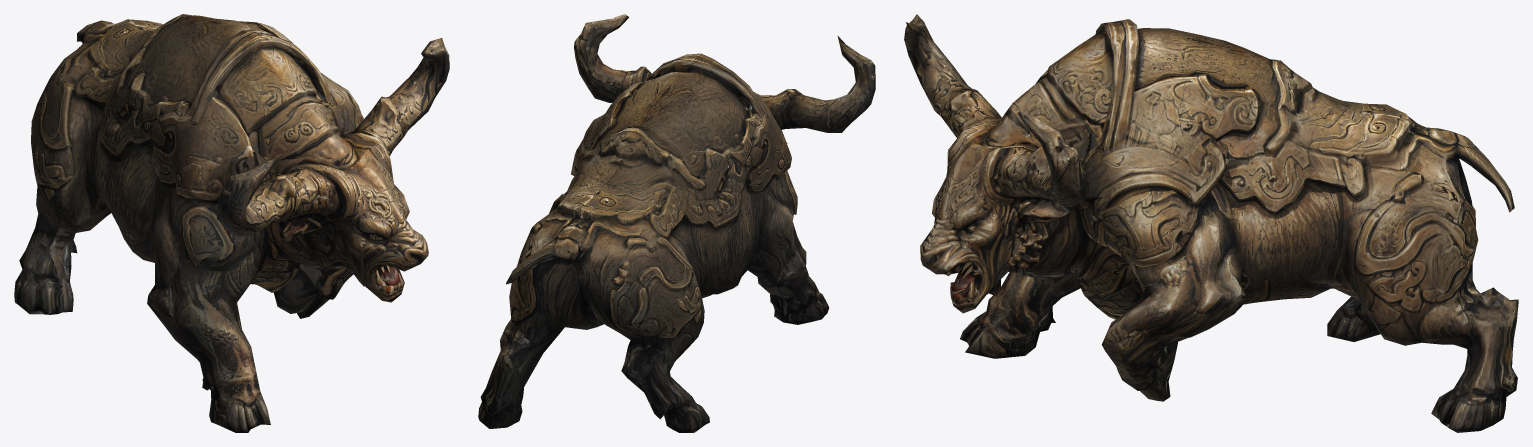
Rendered from Taotie.glb.
The picture shows the model from 3 angles, left to right: view 1: azimuth 30°, elevation 25°; view 2: azimuth 150°, elevation 25°; view 3: azimuth 270°, elevation 25°; orthographic projection. The views are drawn at different scales.
Visible parts, largest first — view 1: texture_mapping; view 2: texture_mapping; view 3: texture_mapping.
Boxes of the visible parts, left/top/right/bottom form: texture_mapping: left=14, top=14, right=449, bottom=432; texture_mapping: left=478, top=14, right=875, bottom=432; texture_mapping: left=904, top=14, right=1518, bottom=432.
Bounding box in the file's own units: 0.5976 × 0.6418 × 0.9996.
1 material, 1 textured.
